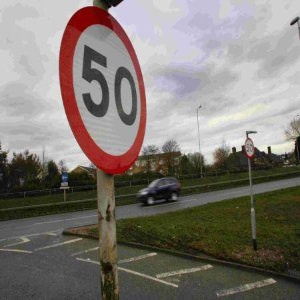50 speed: (59, 6, 148, 175)
